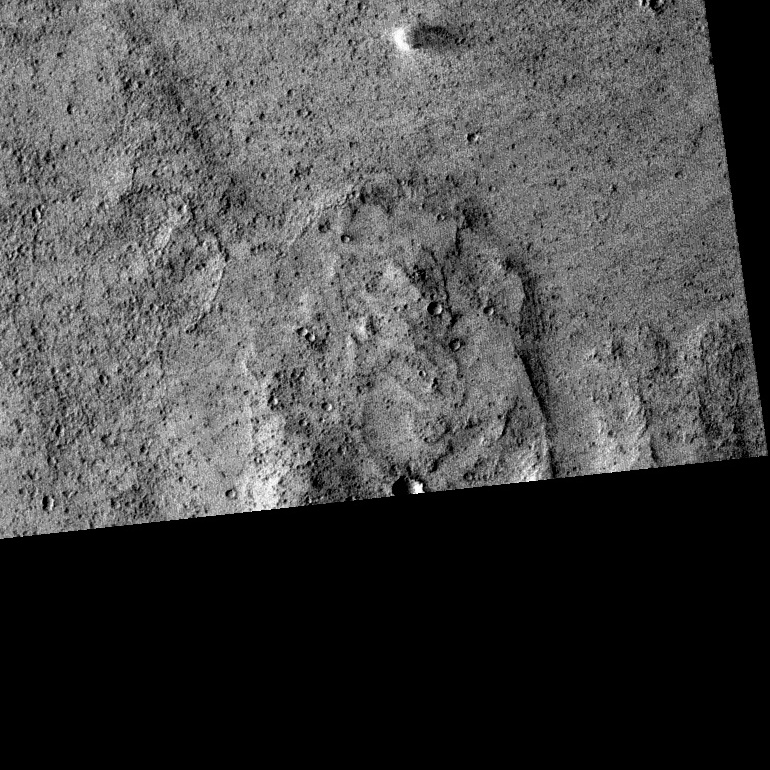dust_devil: (389, 22, 478, 54)
